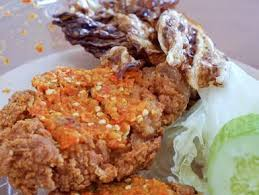ayam_geprek: (7, 50, 159, 181)
